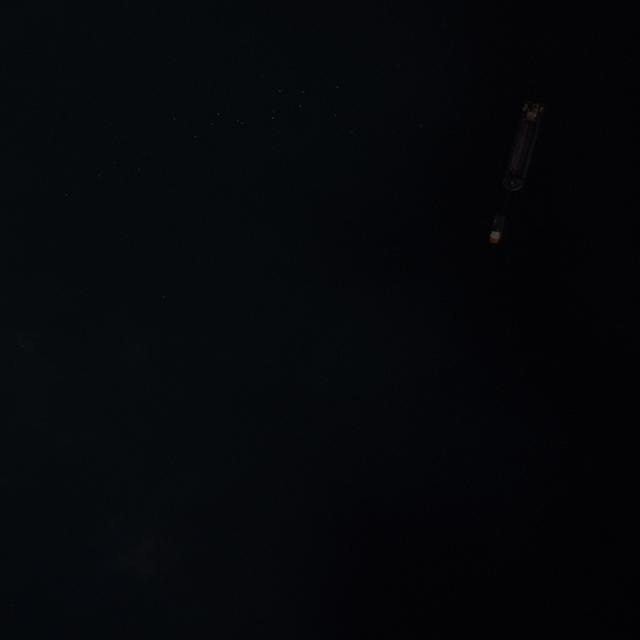Container Ship: (496, 100, 546, 201)
Other Ship: (487, 217, 505, 248)
